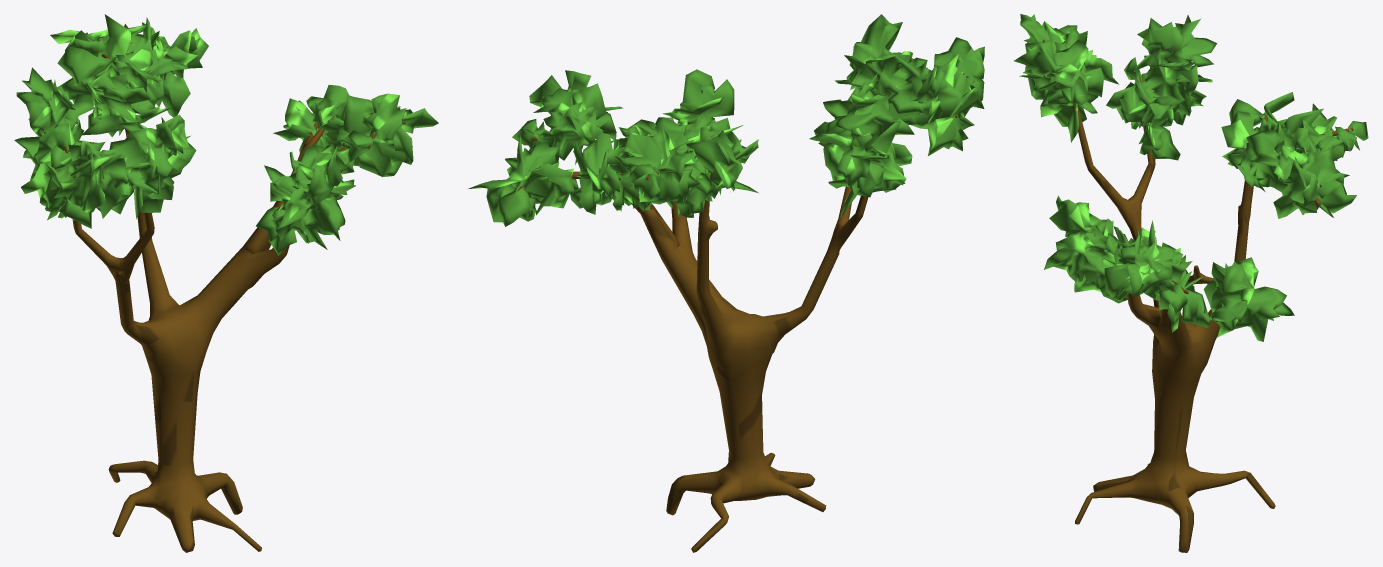
The model's file is arbol1GaB.fbx.
The picture shows the model from 3 angles, left to right: view 1: azimuth 30°, elevation 25°; view 2: azimuth 150°, elevation 25°; view 3: azimuth 270°, elevation 25°; orthographic projection. The views are drawn at different scales.
Visible parts, largest first — view 1: Arbol1; view 2: Arbol1; view 3: Arbol1.
Part boxes in pixels (x1,y1,x2,y2): Arbol1: (14, 14, 438, 552); Arbol1: (468, 14, 984, 552); Arbol1: (1014, 14, 1368, 552).
Bounding box in the file's own units: 1083 × 1189 × 850.
2 materials, 2 textured.
